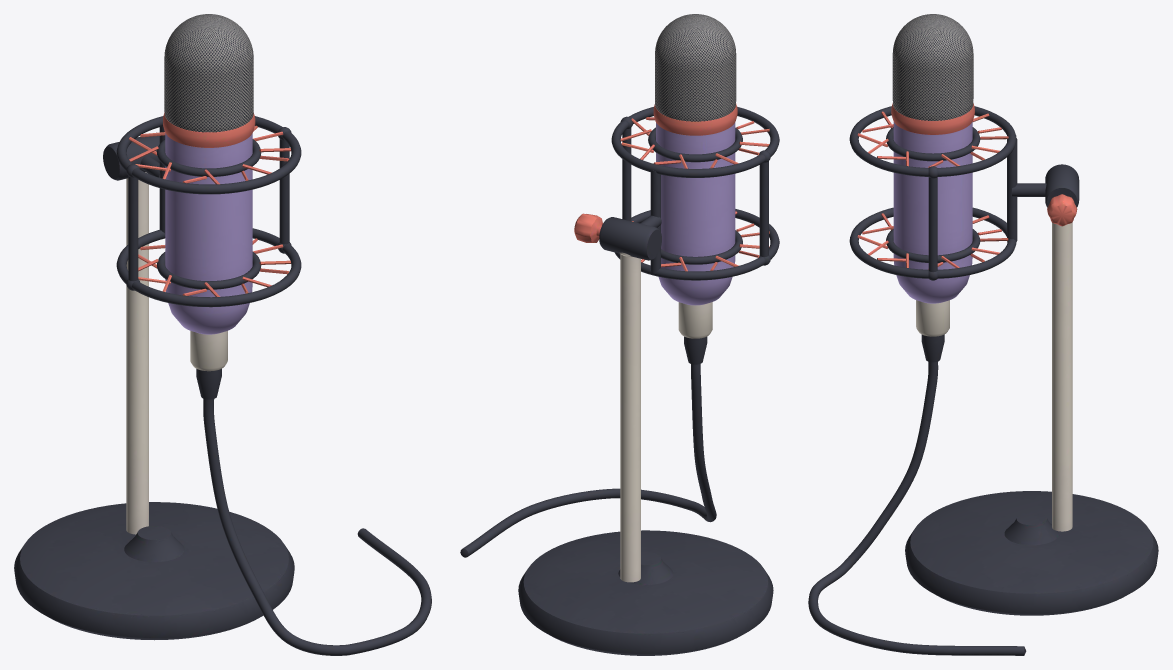
File: microphone.glb
3 views of the same model, side by side, from view 1: azimuth 30°, elevation 25°; view 2: azimuth 150°, elevation 25°; view 3: azimuth 270°, elevation 25° (orthographic). The views are drawn at different scales.
Visible parts, largest first — view 1: microphone_body, microphone_grille; view 2: microphone_body, microphone_grille; view 3: microphone_body, microphone_grille.
Boxes of the visible parts, x1,y1,x2,y2 form: microphone_body: [14, 112, 431, 655]; microphone_grille: [164, 14, 253, 132]; microphone_body: [460, 103, 779, 655]; microphone_grille: [655, 14, 736, 121]; microphone_body: [808, 103, 1158, 655]; microphone_grille: [892, 14, 973, 120].
Bounding box in the file's own units: 0.2267 × 0.3982 × 0.2307.
2 materials, 2 textured.
